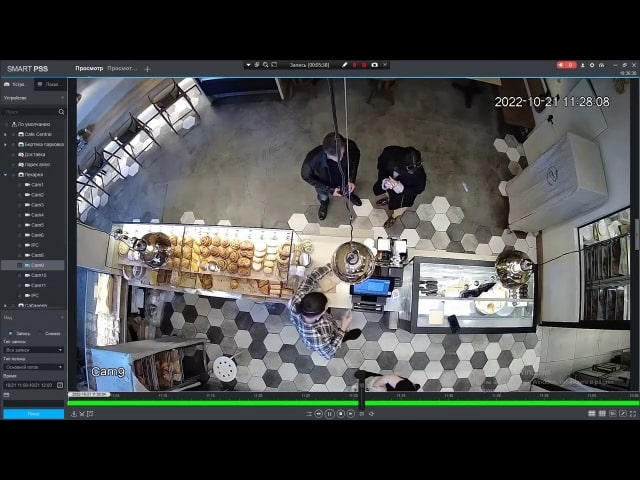barcounter: (98, 228, 548, 335)
pack: (319, 270, 343, 295)
person: (282, 269, 359, 359), (300, 125, 367, 222), (376, 143, 430, 228)
